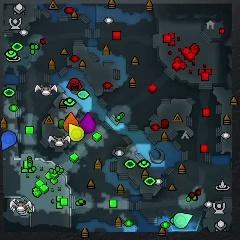p1: (1, 132, 17, 151)
p2: (173, 212, 193, 229)
p3: (80, 112, 97, 134)
p4: (69, 123, 84, 141)
p5: (63, 112, 79, 134)
